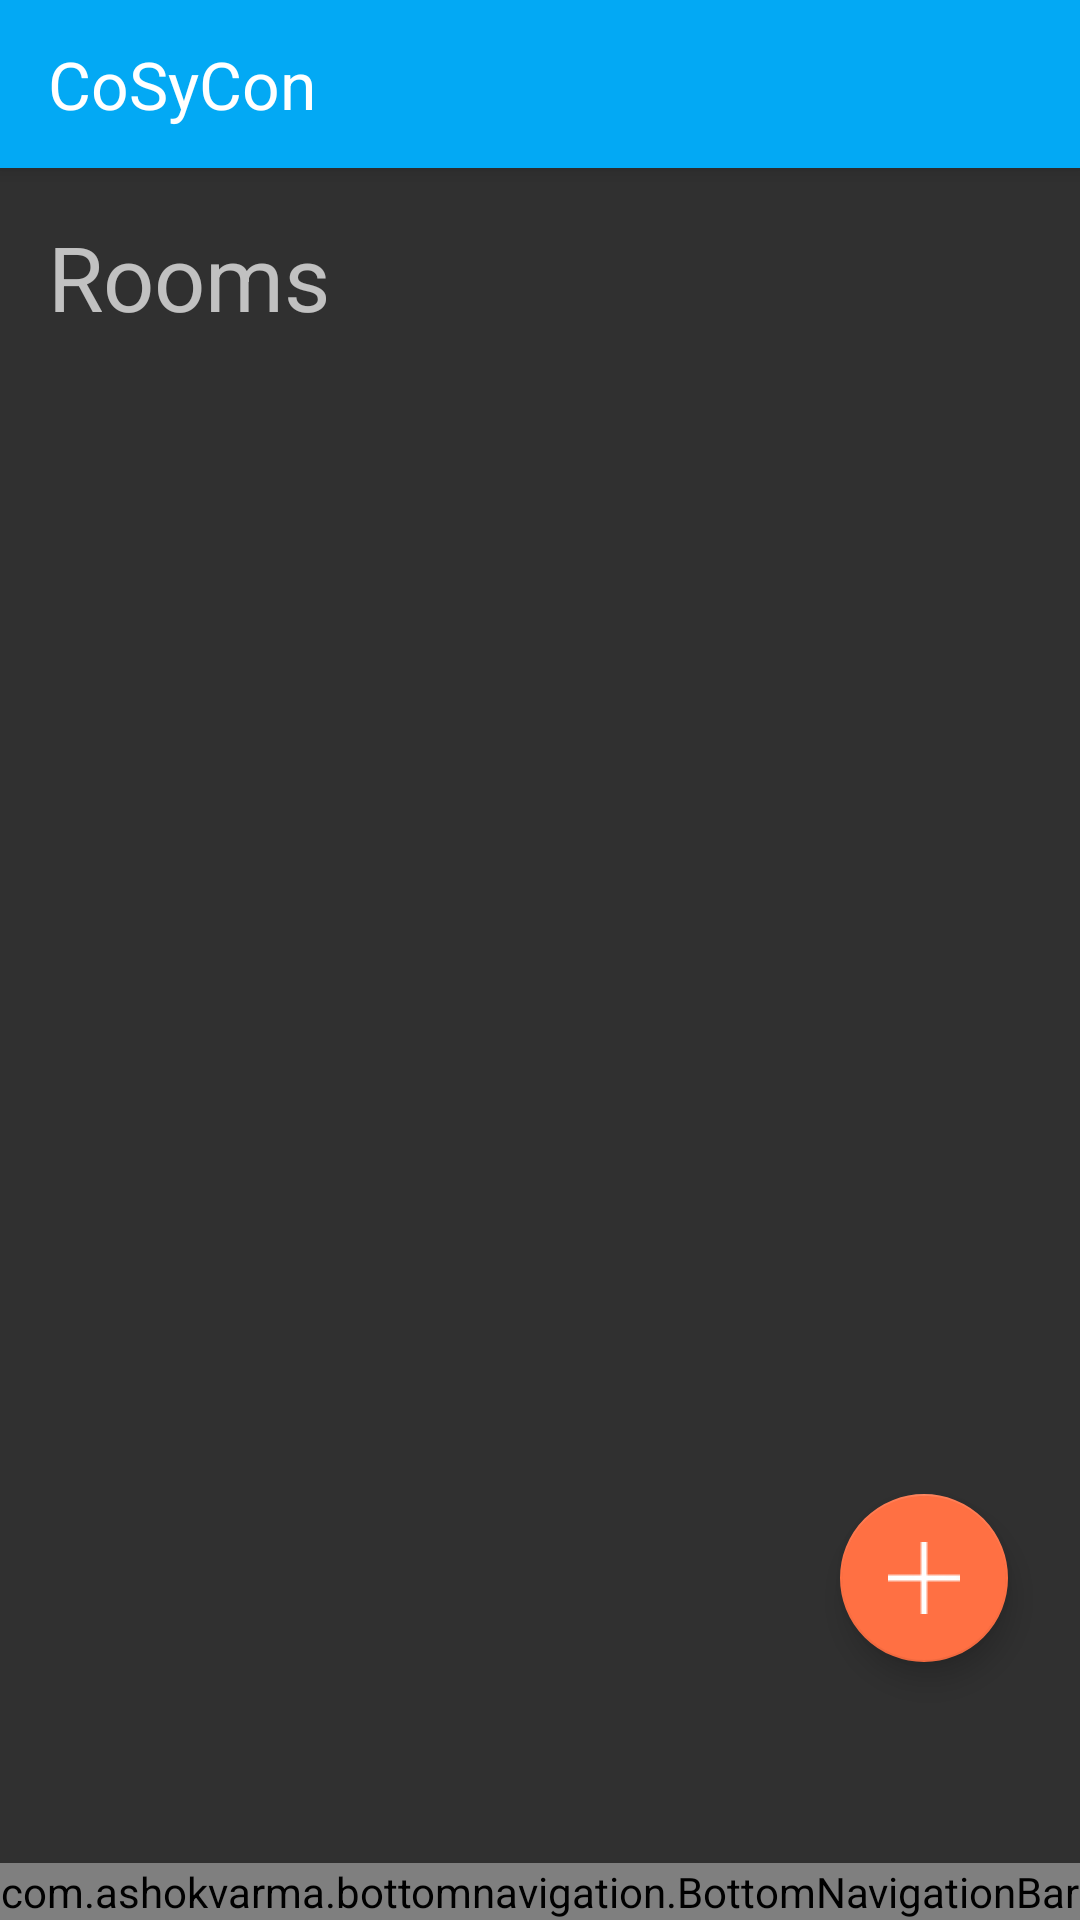

Named icons in this screenshot (1080*1920) and their bounding boxes, (x1, y1, x2, y2):
add: (840, 1494, 1008, 1662)
